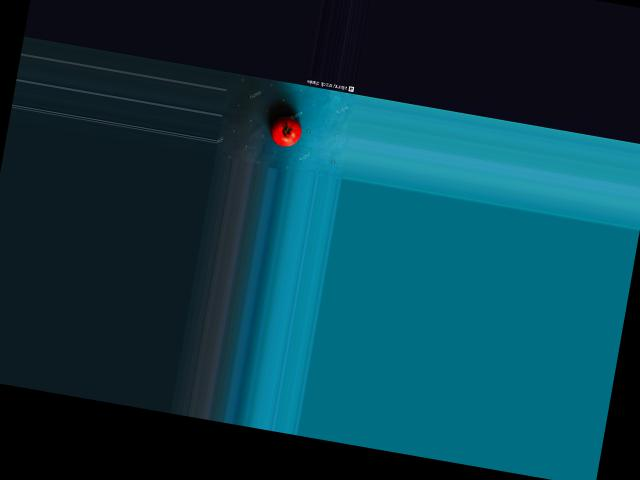tomato: (268, 113, 303, 148)
